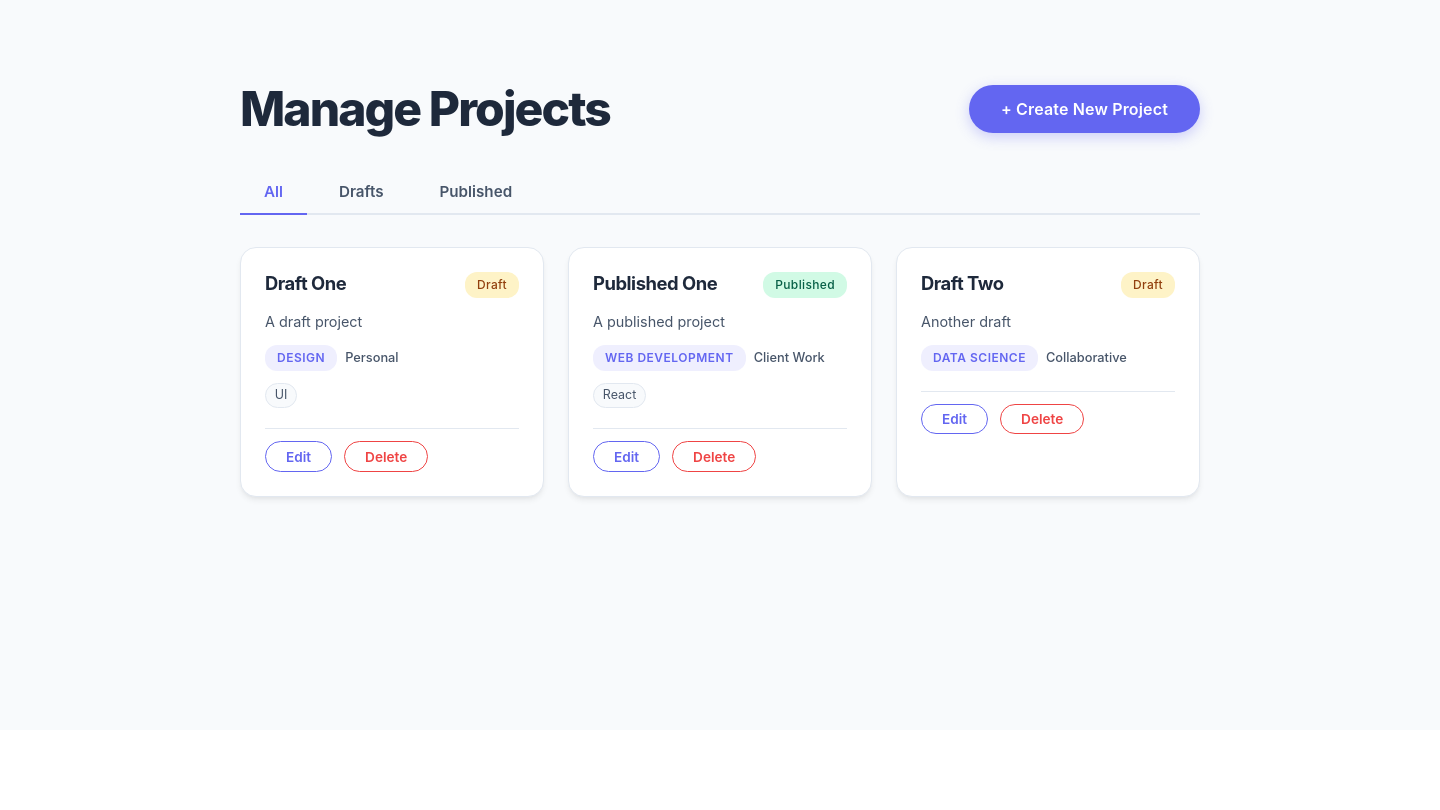
ProjectsManager › Delete project › closes dialog when cancel is clicked
The image size is (1440, 810).
What coordinates should you click on to do the following:
click the button with aria-label "delete draft one"
I would click on:
 (386, 456)
Its box is top-left (344, 441), bottom-right (428, 472).
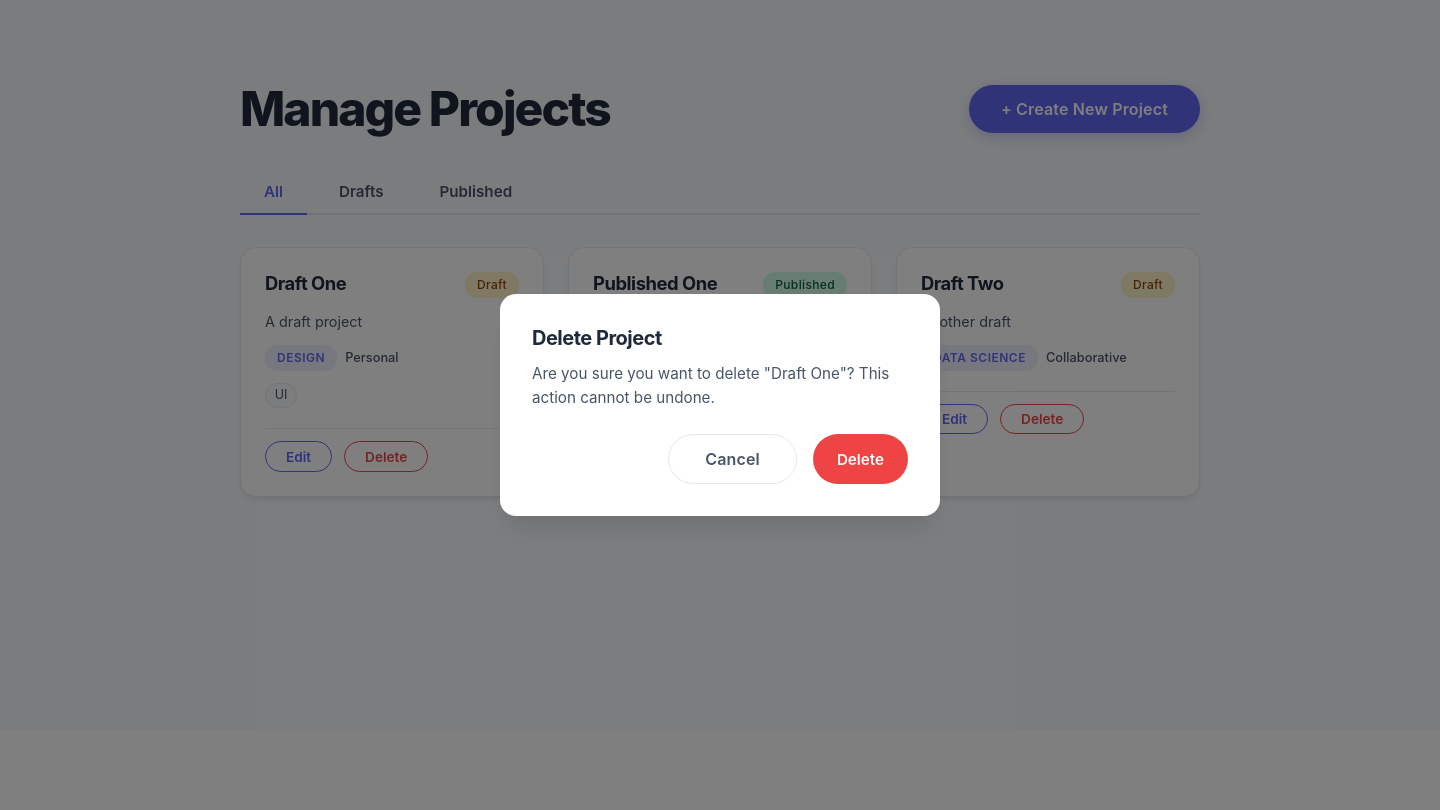
What coordinates should you click on to do the following:
click the button "Cancel"
I would click on:
 (733, 459)
Its box is top-left (668, 434), bottom-right (797, 484).
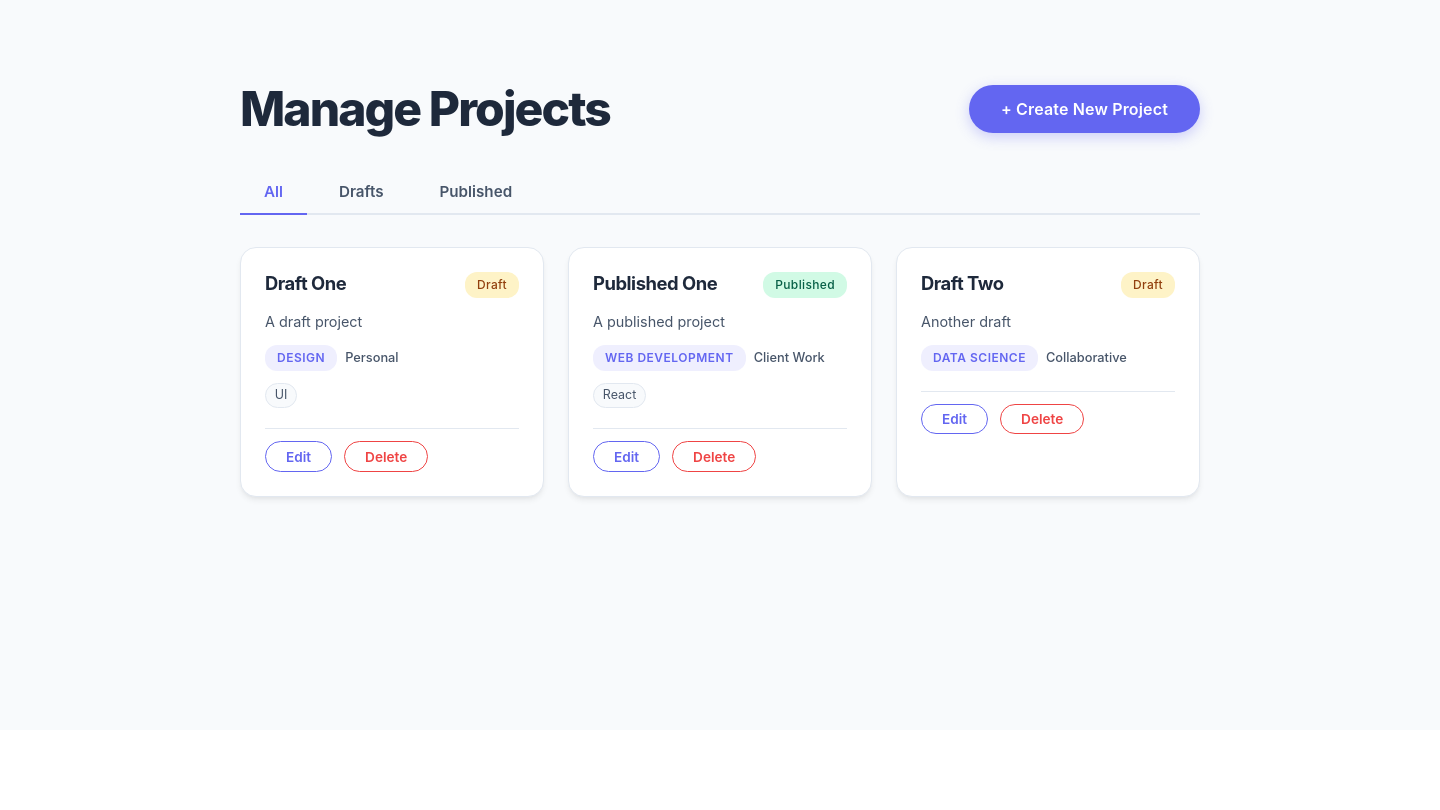
Result: the dialog is gone
